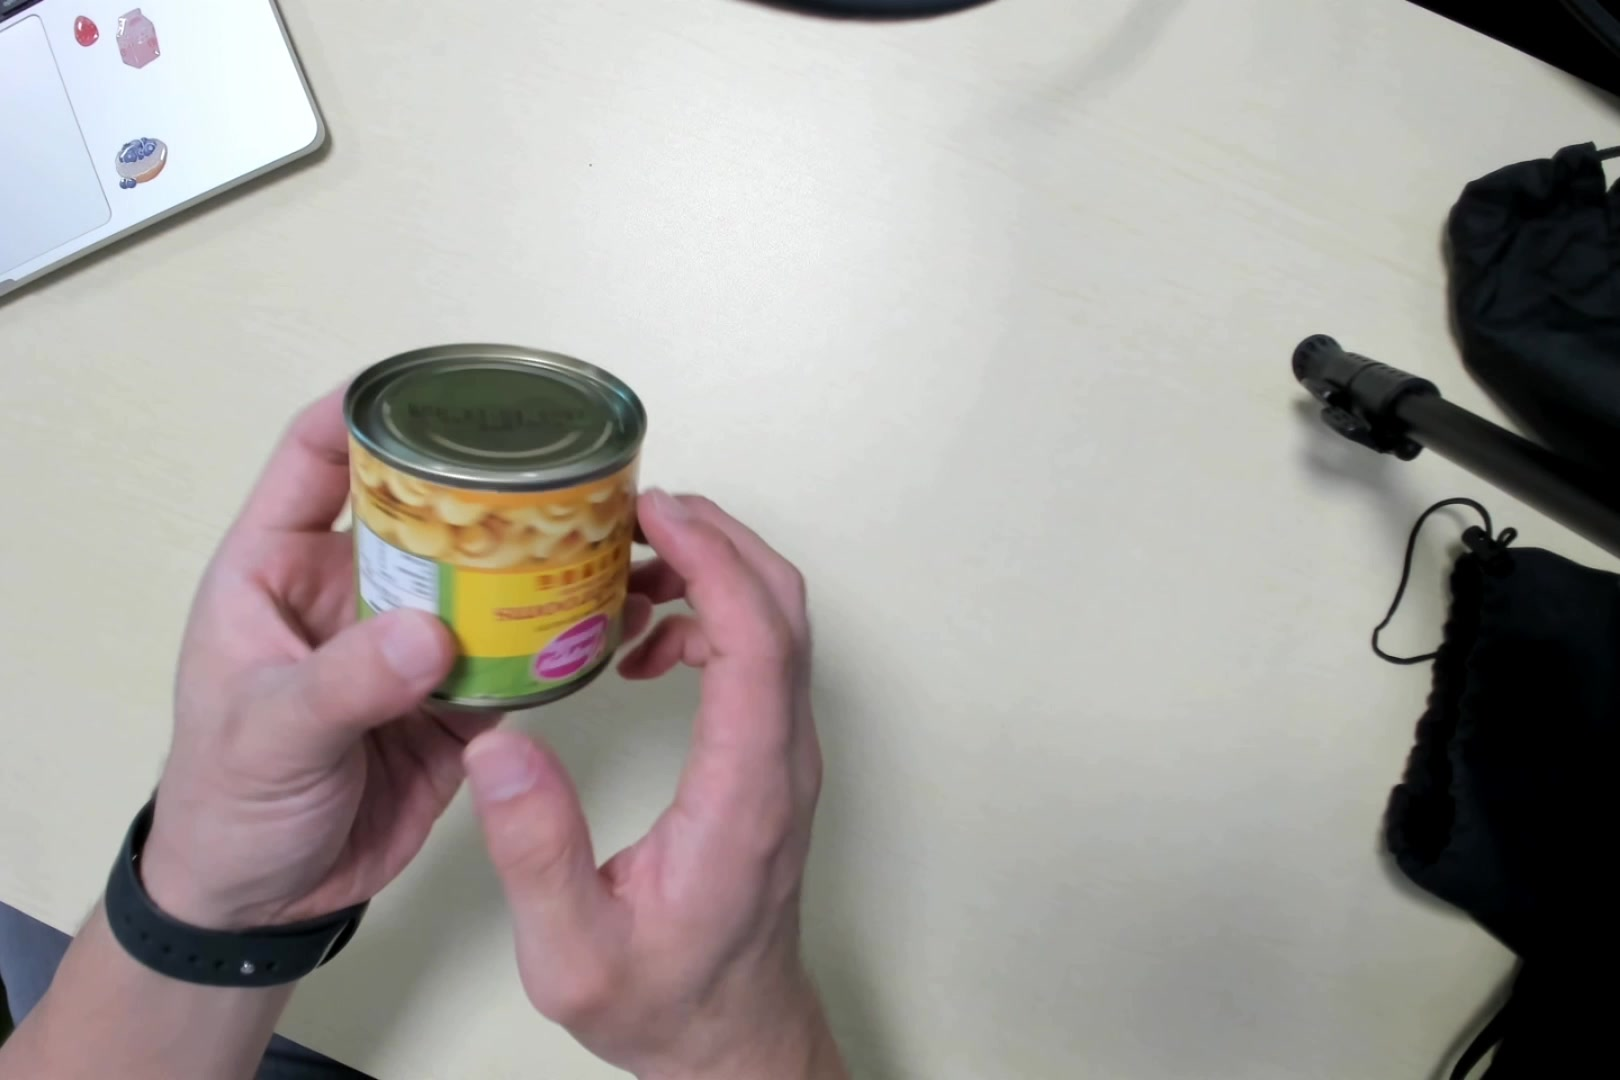CannedMashrooms_100-199g_Halal_NonHealthy: (344, 344, 639, 710)
